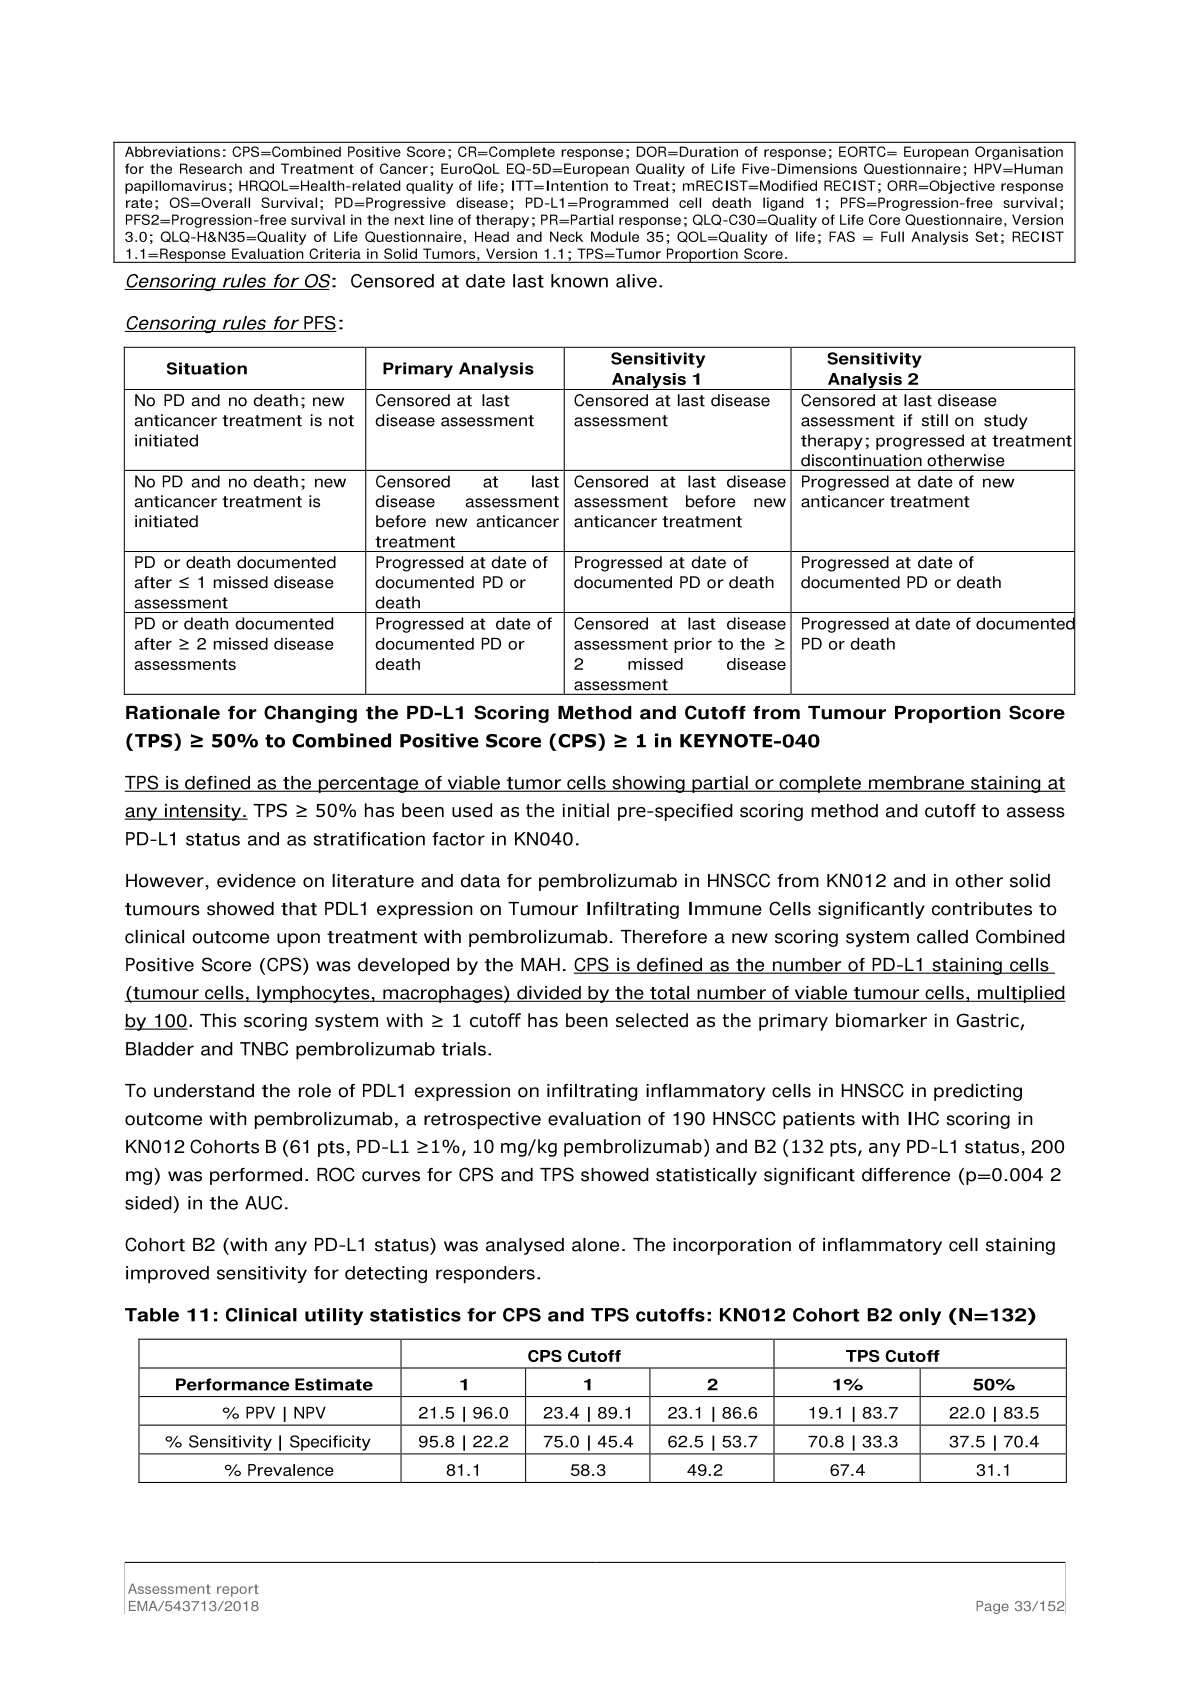full_lined: (124, 346, 1075, 695)
merged_cells: (138, 1337, 1068, 1484)
